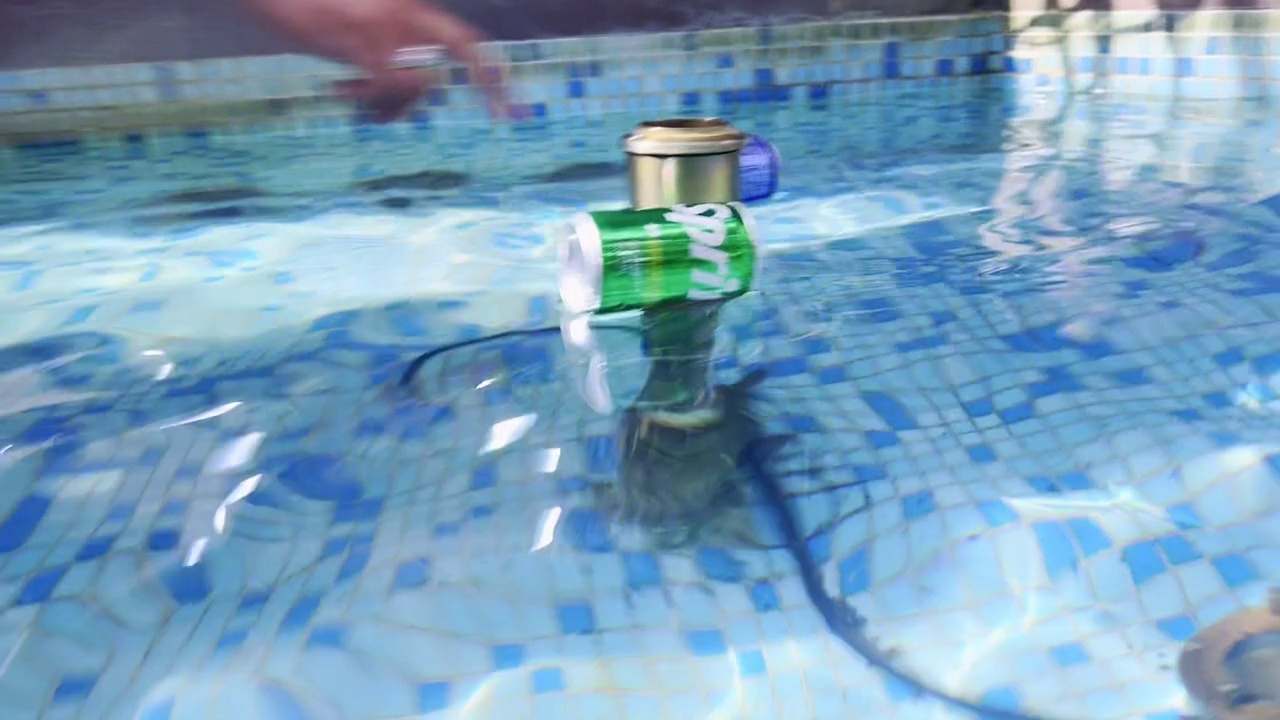debris: (549, 192, 764, 327), (679, 119, 790, 209)
